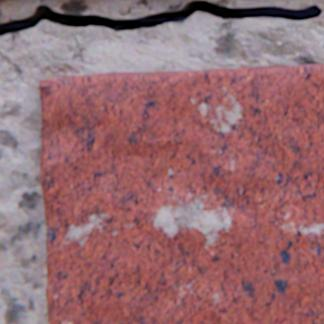brick: (41, 64, 323, 323)
crack: (0, 0, 322, 36)
